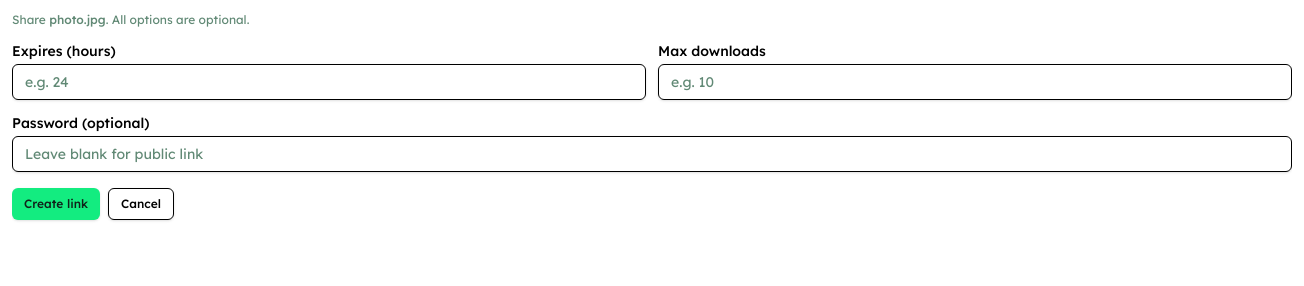
Test: ShareModal › shows error message on failure
Click the button "Create link": {"x": 56, "y": 204} [12,188,100,220]
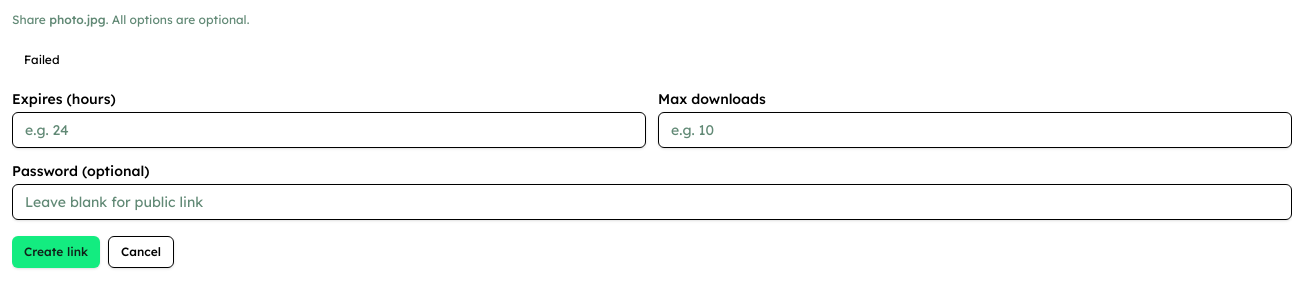
Check: the text "Failed" is shown, box [24,52,60,67]
